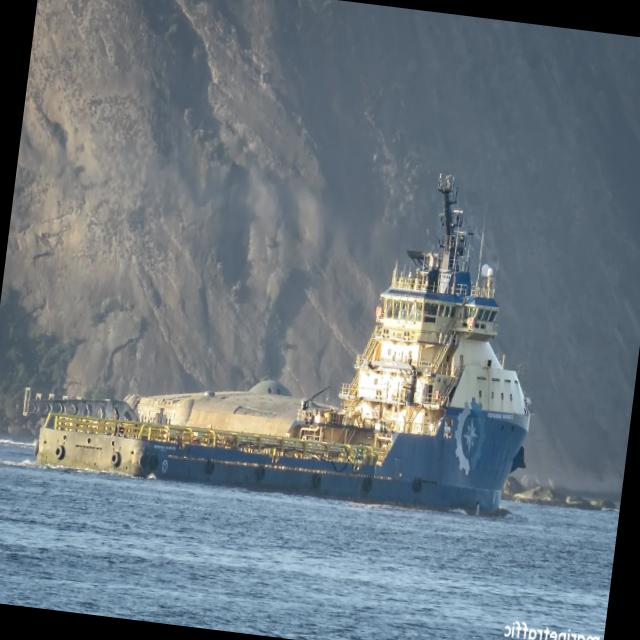Offshore: (35, 175, 530, 515)
